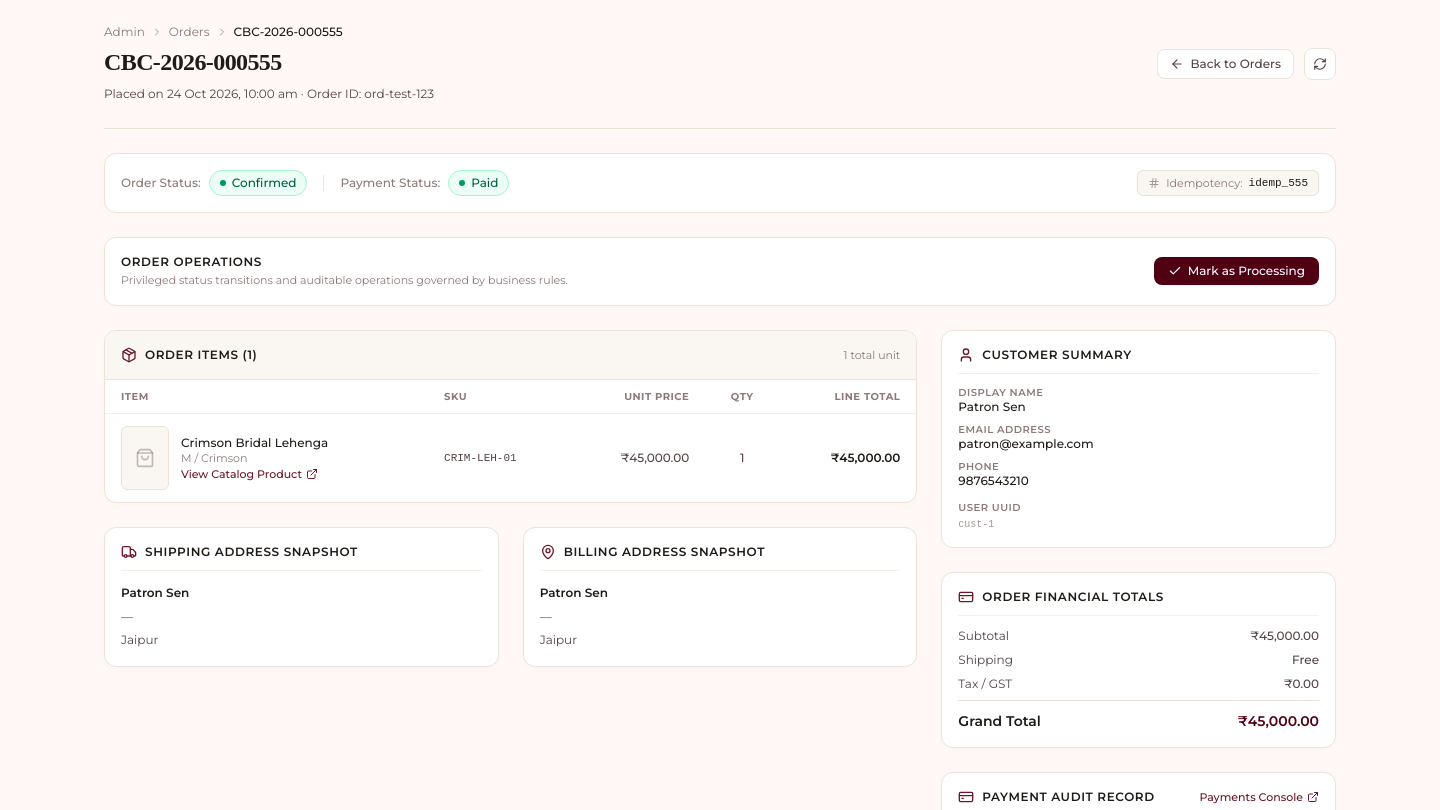
Test: AdminOrderDetailClient Operations & Transitions (Sprint A4.3) › opens confirmation modal, collects optional note, and submits transition successfully
Click the button "Mark as Processing" at (1236, 271), box [1154,257,1319,285]
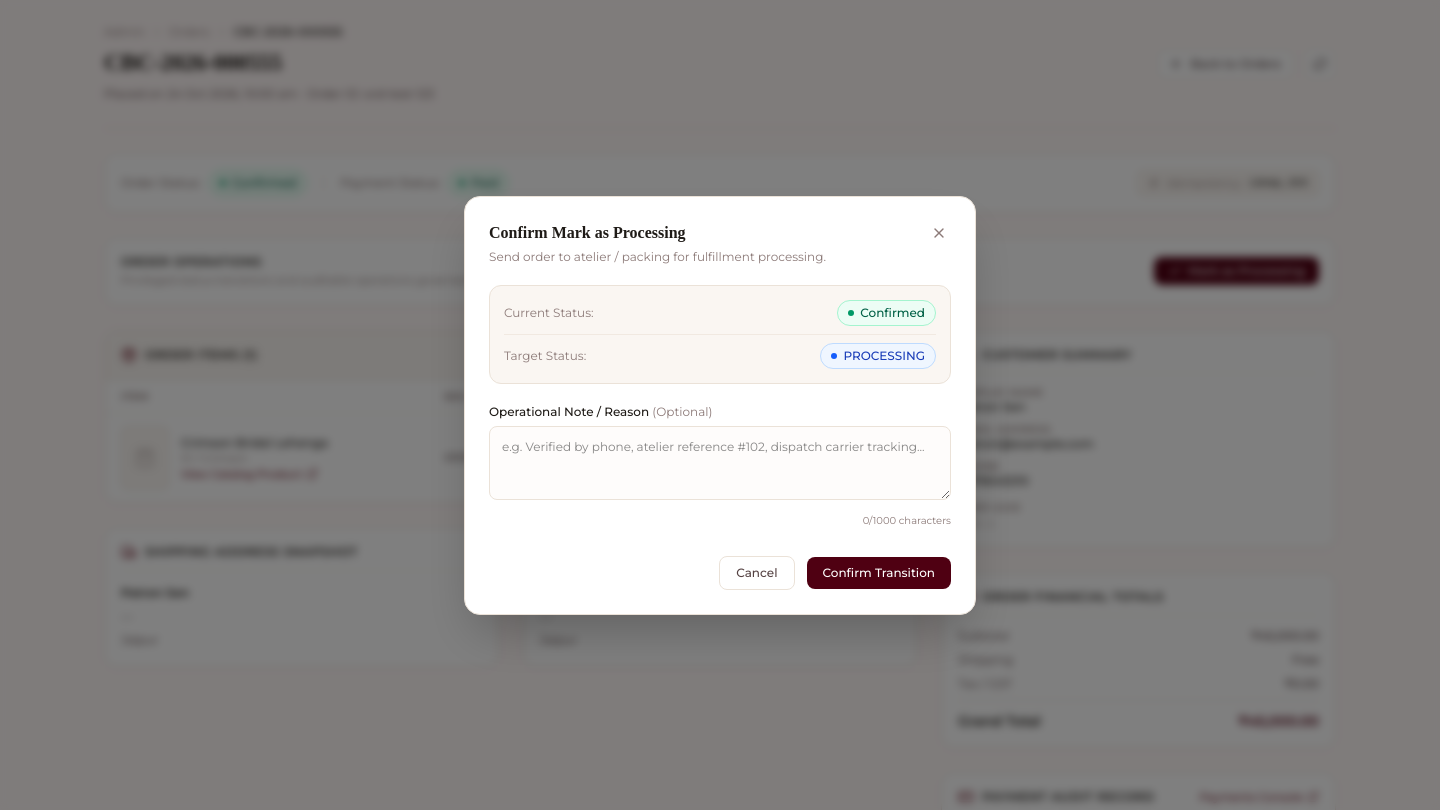
Expected: the dialog is shown
Expected: the heading "Confirm Mark as Processing" is shown, [489,224,686,240]
Note: Type optional note
Replace the text in the text box labelled "Operational Note / Reason (Optional)" with "Sent to atelier" at (720, 462), box [489,426,951,500]
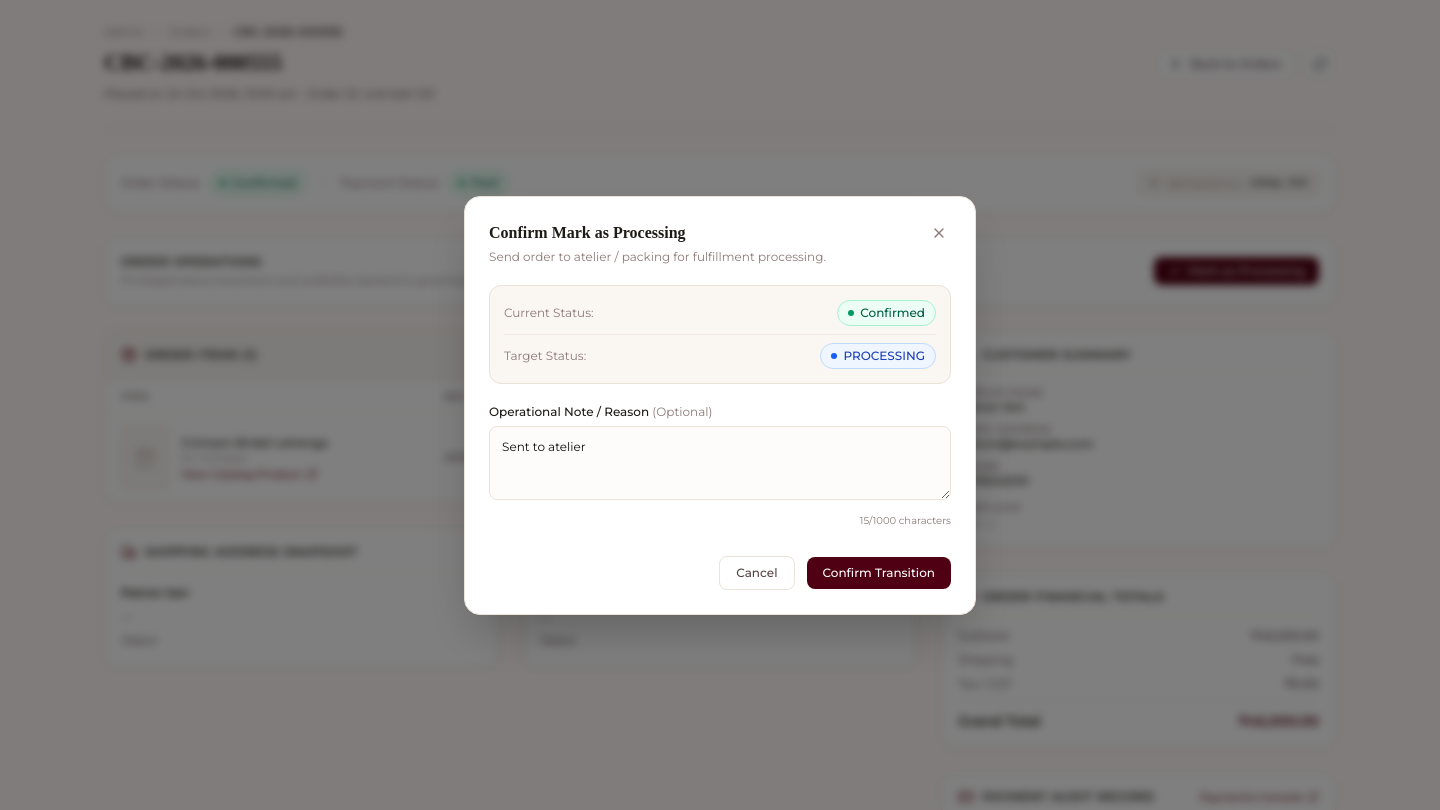
Note: Submit transition
Click the button "Confirm Transition" at (879, 572), box [806,556,951,588]
(page scrolled)
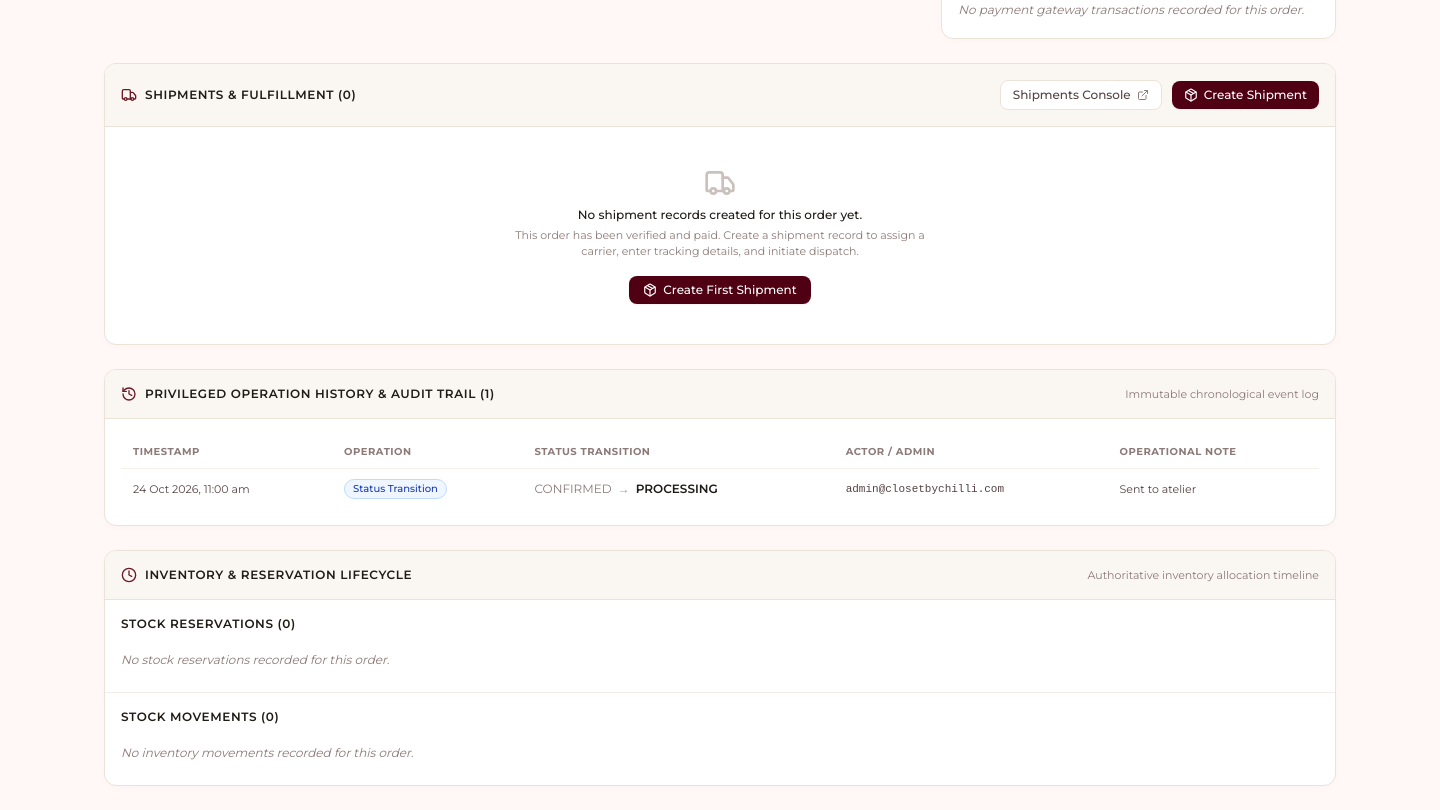
Expected: the text "Sent to atelier" is shown, [1108,469,1319,509]
Expected: the text "admin@closetbychilli.com" is shown, [834,469,1108,509]
